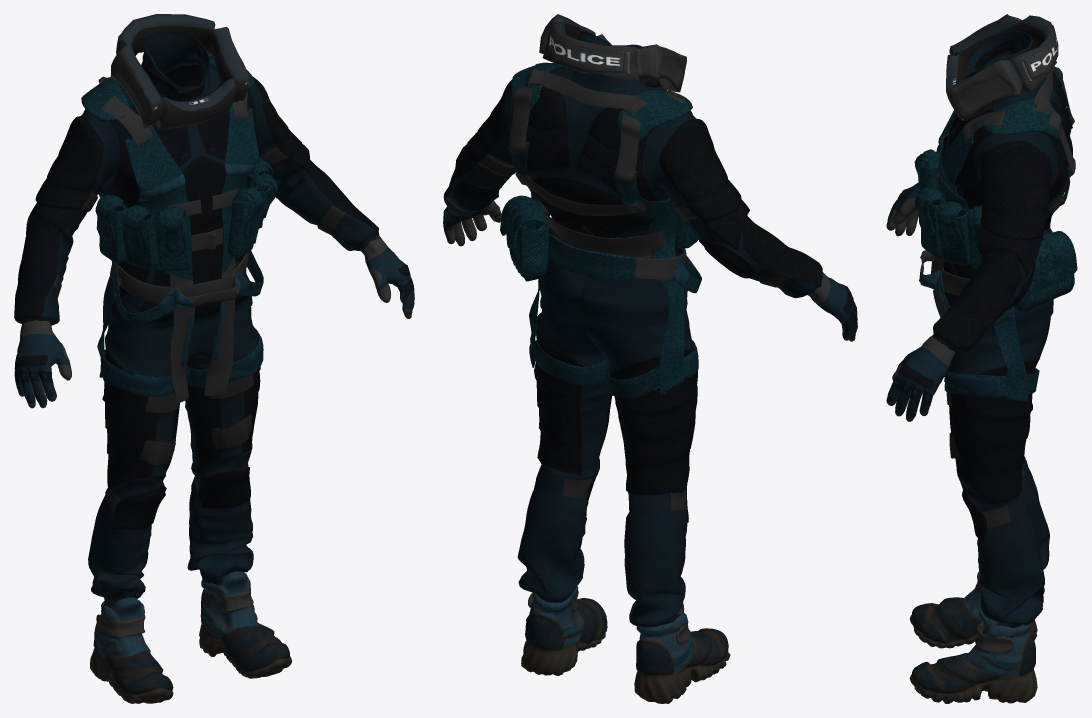
Rendered from demo_set_of_tactical_light_armor.glb.
3 views of the same model, side by side, from view 1: azimuth 30°, elevation 25°; view 2: azimuth 150°, elevation 25°; view 3: azimuth 270°, elevation 25° (orthographic). The views are drawn at different scales.
Parts seen in each view (by area): view 1: we, sd, polySurface410, polySurface1, polySurface412, polySurface409, df; view 2: we, sd, polySurface410, polySurface1, polySurface409, polySurface412, df; view 3: we, sd, polySurface410, polySurface1, polySurface412, polySurface409, df.
Boxes of the visible parts, <box> form: we: <box>14,31,379,332</box>; sd: <box>88,306,260,608</box>; polySurface410: <box>81,53,263,403</box>; polySurface1: <box>90,571,291,703</box>; polySurface412: <box>95,158,278,271</box>; polySurface409: <box>110,14,249,129</box>; df: <box>14,236,414,408</box>; we: <box>443,32,822,328</box>; sd: <box>517,255,697,627</box>; polySurface410: <box>508,62,701,398</box>; polySurface1: <box>521,586,730,703</box>; polySurface409: <box>539,14,686,92</box>; polySurface412: <box>500,193,698,281</box>; df: <box>443,200,857,341</box>; we: <box>933,30,1072,353</box>; sd: <box>946,309,1050,627</box>; polySurface410: <box>919,61,1075,401</box>; polySurface1: <box>909,571,1037,703</box>; polySurface412: <box>914,145,1077,312</box>; polySurface409: <box>946,14,1058,120</box>; df: <box>886,182,955,421</box>.
Bounding box in the file's own units: 1.13 × 1.74 × 0.471.
Materials: 4 (4 with a texture image).
